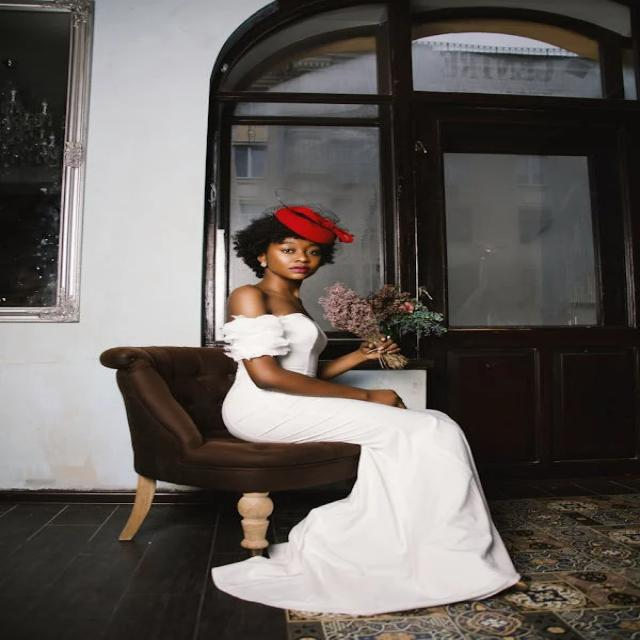Real human 2: (205, 194, 518, 624)
